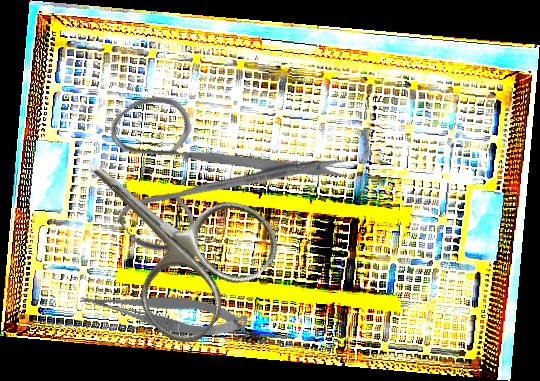Iris Scissors: (66, 21, 354, 308), (36, 103, 291, 357)
Micro Scissor: (77, 271, 250, 350)
